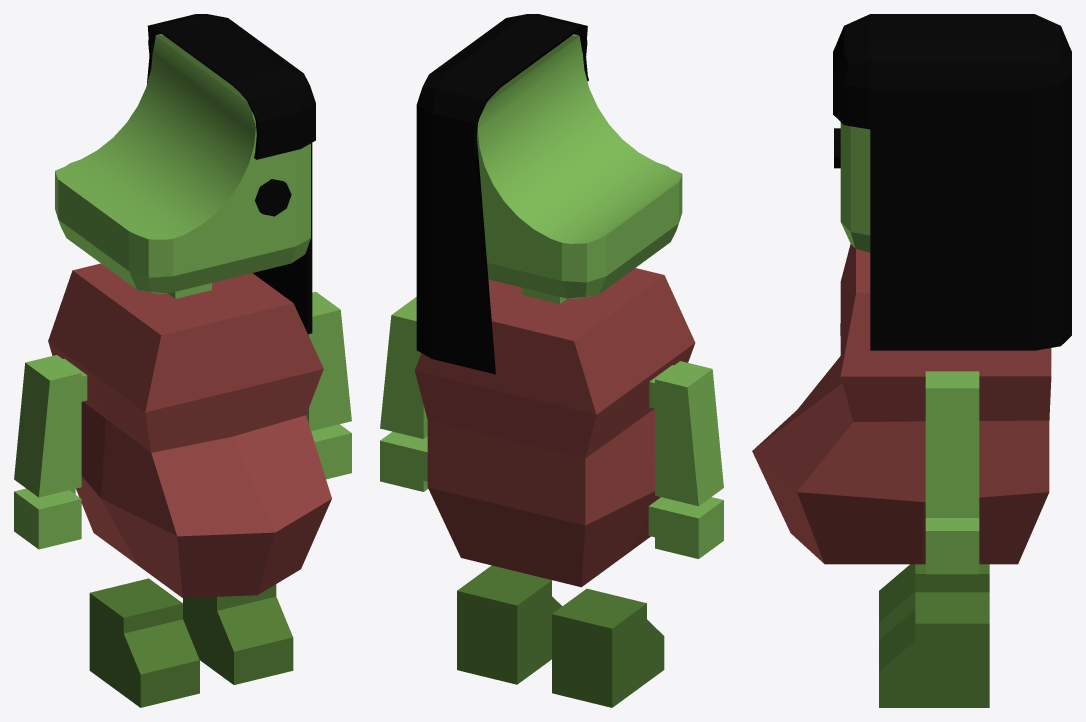
File: MotherZombieRevision.fbx
3 views of the same model, side by side, from view 1: azimuth 30°, elevation 25°; view 2: azimuth 150°, elevation 25°; view 3: azimuth 270°, elevation 25° (orthographic). The views are drawn at different scales.
Visible parts, largest first — view 1: Cube.076, Cube.065, Cube.069, Cube.067, Cube.070, Cube.074, Cube.075, Cube.072, Cube.071, Cube.073, Cylinder.001; view 2: Cube.076, Cube.065, Cube.067, Cube.069, Cube.070, Cube.075, Cube.074, Cube.072, Cube.071, Cube.073; view 3: Cube.067, Cube.069, Cube.075, Cube.072, Cube.065, Cube.070, Cube.073, Cube.076.
Boxes of the visible parts, <box> form: Cube.076: <box>48,263,275,597</box>; Cube.065: <box>55,34,310,293</box>; Cube.069: <box>194,273,331,594</box>; Cube.067: <box>147,14,315,334</box>; Cube.070: <box>89,578,199,707</box>; Cube.074: <box>14,355,87,497</box>; Cube.075: <box>183,584,293,684</box>; Cube.072: <box>306,291,351,430</box>; Cube.071: <box>14,488,81,549</box>; Cube.073: <box>311,424,351,479</box>; Cylinder.001: <box>255,179,291,216</box>; Cube.076: <box>505,268,695,587</box>; Cube.065: <box>476,34,682,298</box>; Cube.067: <box>416,14,588,374</box>; Cube.069: <box>414,279,540,572</box>; Cube.070: <box>552,588,664,707</box>; Cube.075: <box>457,565,562,684</box>; Cube.074: <box>649,361,723,506</box>; Cube.072: <box>380,297,427,438</box>; Cube.071: <box>648,497,723,558</box>; Cube.073: <box>380,431,427,491</box>; Cube.067: <box>833,14,1071,350</box>; Cube.069: <box>752,257,1051,564</box>; Cube.075: <box>879,592,989,707</box>; Cube.072: <box>925,371,979,517</box>; Cube.065: <box>840,122,870,252</box>; Cube.070: <box>879,564,989,639</box>; Cube.073: <box>925,518,979,574</box>; Cube.076: <box>754,244,870,449</box>.
Bounding box in the file's own units: 351 × 650 × 286.
